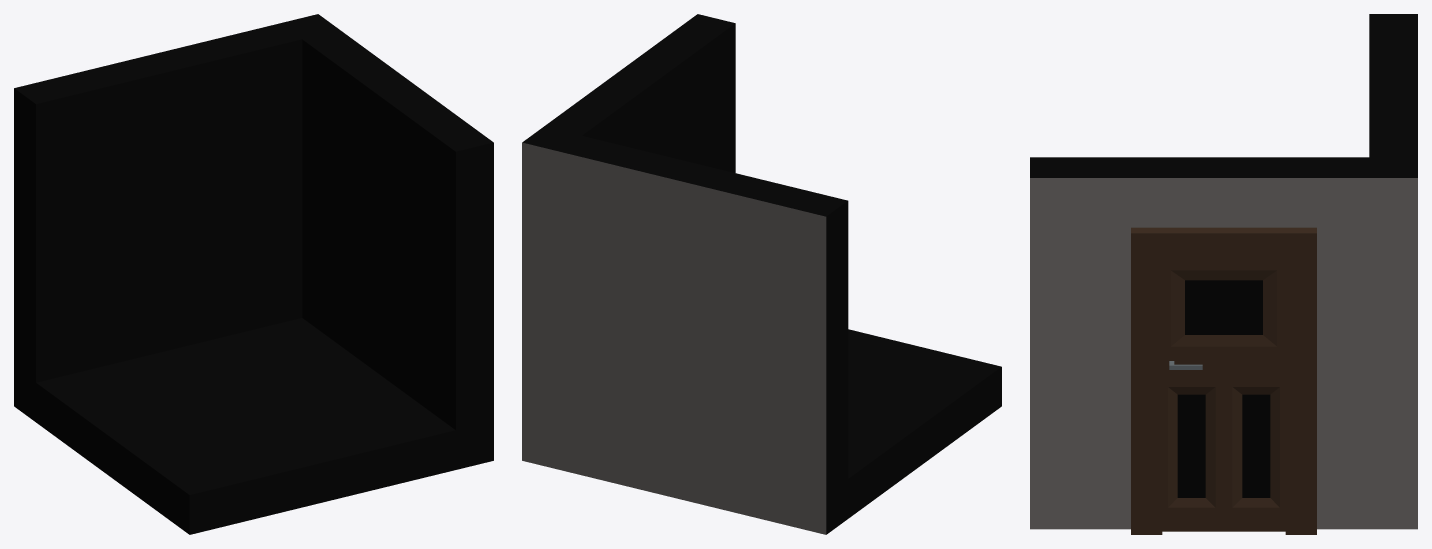
3 renders of one model, left to right at view 1: azimuth 30°, elevation 25°; view 2: azimuth 150°, elevation 25°; view 3: azimuth 270°, elevation 25°, orthographic. The views are drawn at different scales.
Parts seen in each view (by area): view 1: floor_wall.056; view 2: floor_wall.056; view 3: floor_wall.056.
Boxes of the visible parts, x1=… form: floor_wall.056: x1=14, y1=14, x2=493, y2=534; floor_wall.056: x1=522, y1=14, x2=1001, y2=534; floor_wall.056: x1=1030, y1=14, x2=1417, y2=534.
Size of the model in its own units: 209 by 200 by 200.
